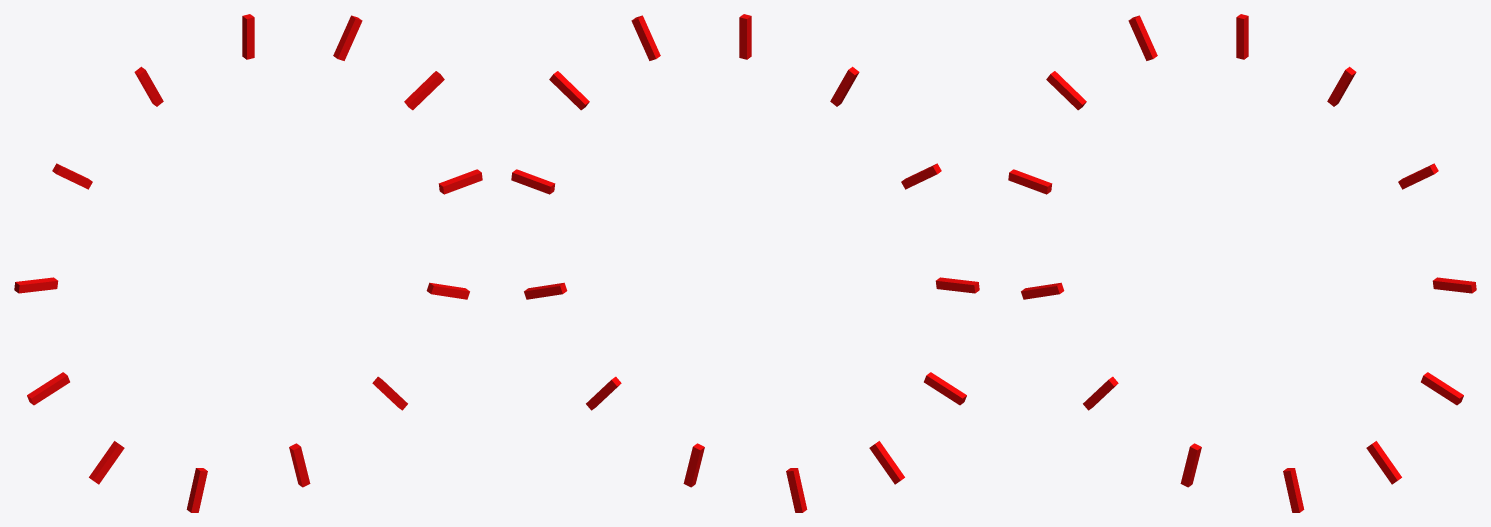
The model's file is serial_test_example_fn_std-solid-appearance7_output.glb.
3 views of the same model, side by side, from view 1: azimuth 30°, elevation 25°; view 2: azimuth 150°, elevation 25°; view 3: azimuth 330°, elevation 25° (orthographic).
Bounding box in the file's own units: 0.0597 × 0.0592 × 0.001.
